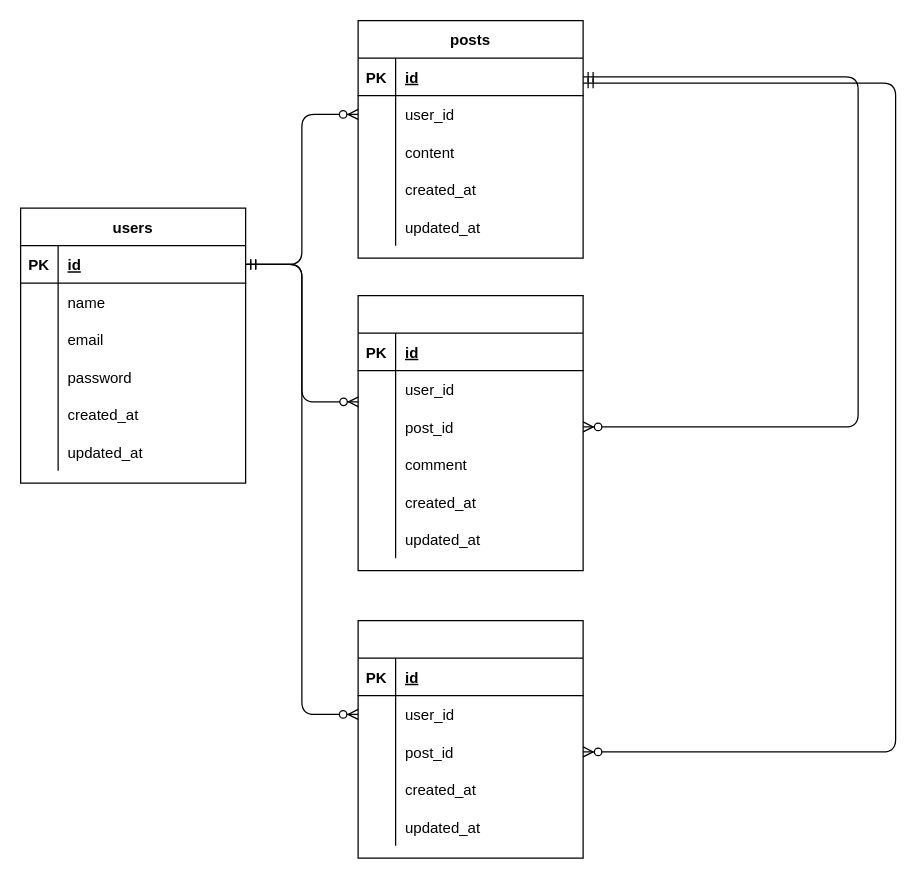
The diagram is 916 pixels wide and 879 high, and some of its shapes have lost their labels. The box of each missing label's shape, as (x1, y1, x2, y2) in pixels:
comments: (357, 294, 583, 571)
likes: (357, 619, 583, 858)
